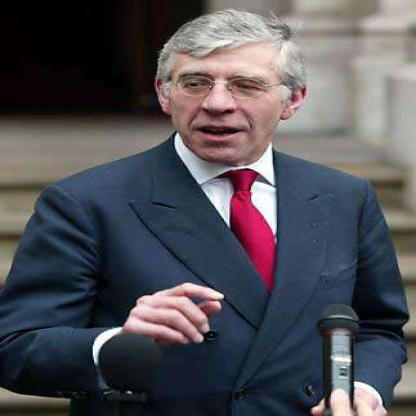face: (169, 16, 289, 165)
